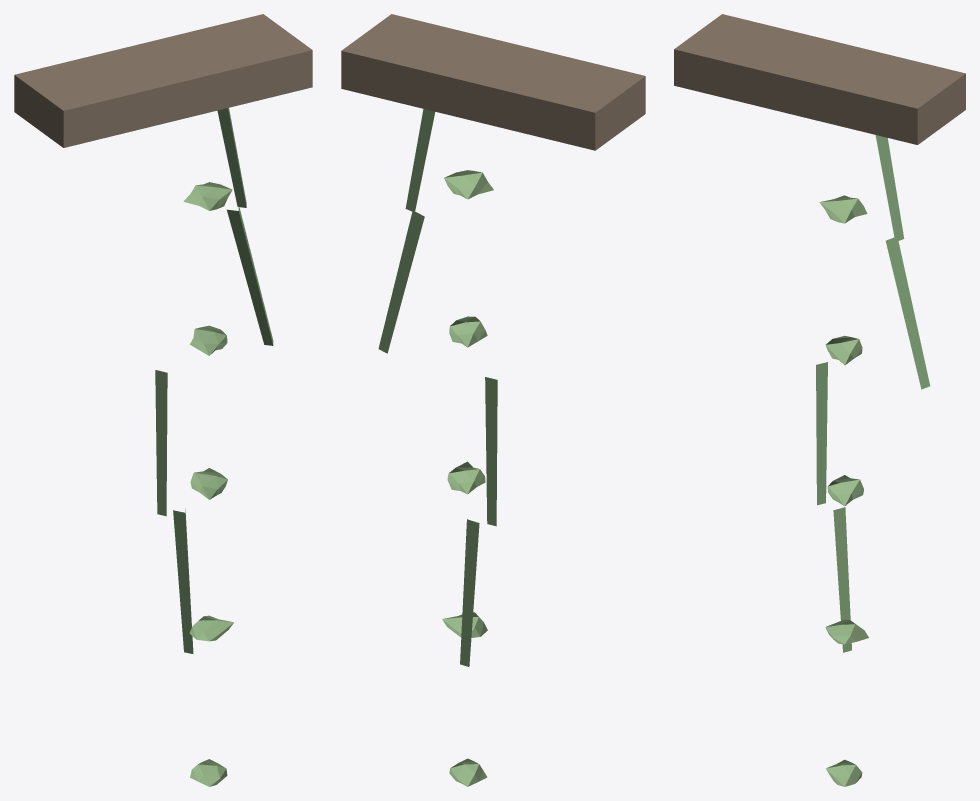
Rendered from vine_v23.glb.
The picture shows the model from 3 angles, left to right: view 1: azimuth 30°, elevation 25°; view 2: azimuth 150°, elevation 25°; view 3: azimuth 330°, elevation 25°; orthographic projection. The views are drawn at different scales.
Visible parts, largest first — view 1: lod0; view 2: lod0; view 3: lod0.
Part boxes in pixels (x1=…): lod0: x1=14, y1=14, x2=312, y2=786; lod0: x1=341, y1=14, x2=645, y2=786; lod0: x1=674, y1=14, x2=965, y2=786.
Size of what is drawn, in the model's own units: 0.7 by 1.95 by 0.2421.
